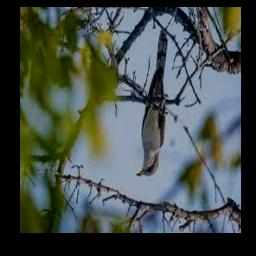Cuckoo: (136, 30, 168, 177)
